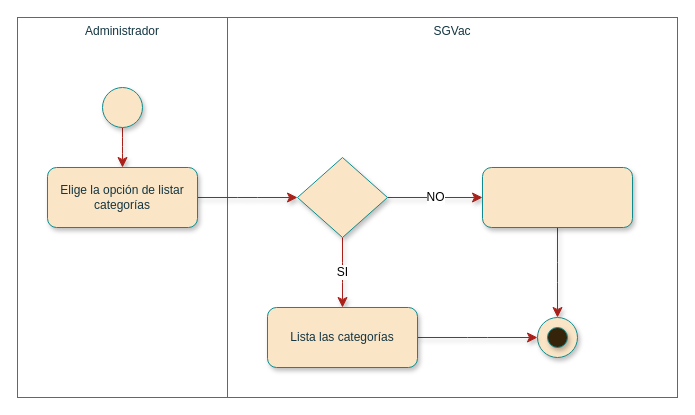
This 695x415 diagram has some shape labels left out. Here are the shapes that lost their labels. From the top down, the centre of each, then its label:
At (x=343, y=198): "Hay resultados?".
At (x=558, y=198): "Muestra no hay resultados".
